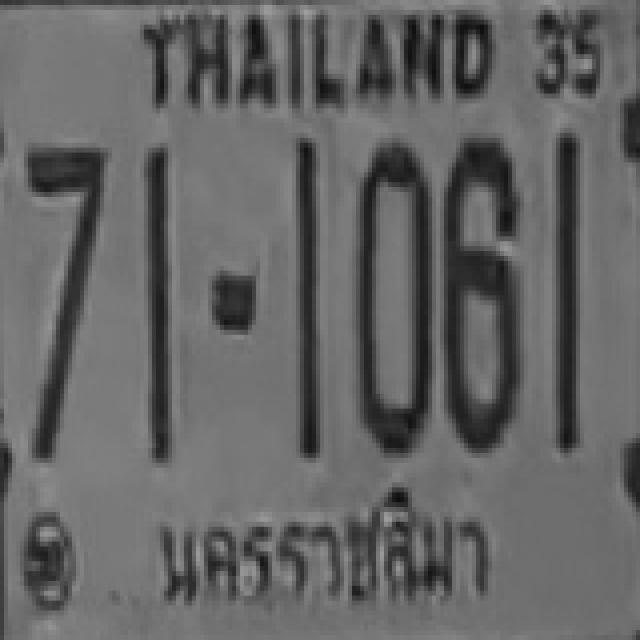0: (354, 137, 431, 452)
1: (138, 142, 177, 463), (549, 125, 582, 453), (292, 138, 324, 462)
6: (440, 134, 521, 457)
7: (24, 143, 102, 461)
NakhonRatchasima: (142, 475, 508, 618)
